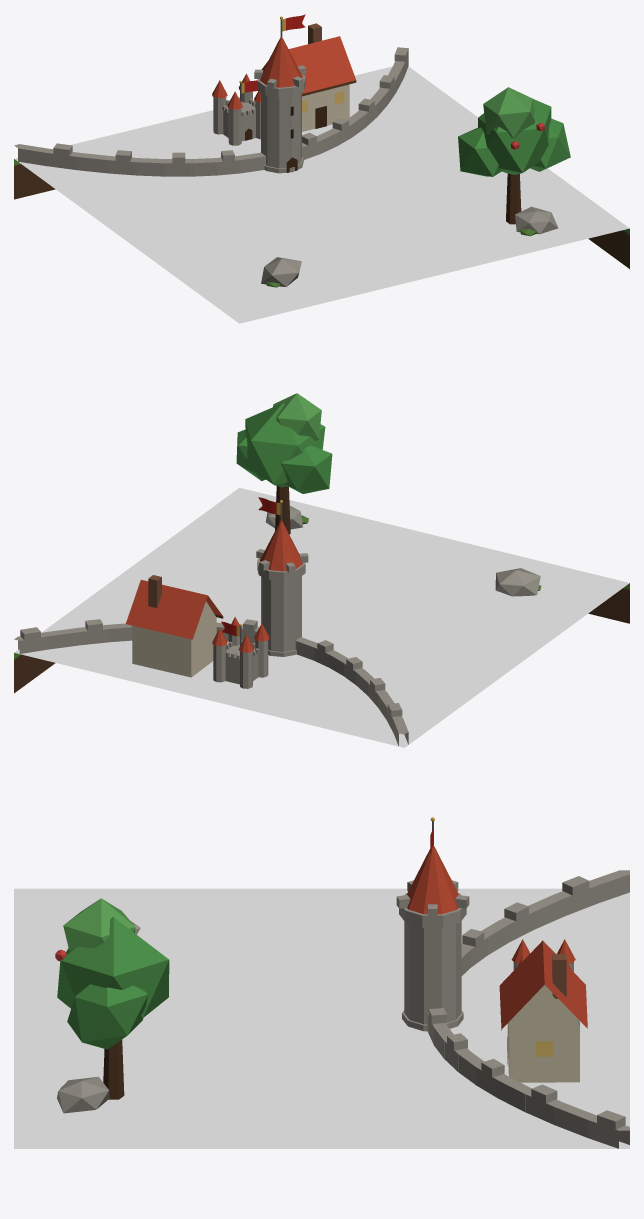
Rendered from capRL.glb.
3 views of the same model, one above another, from view 1: azimuth 30°, elevation 25°; view 2: azimuth 150°, elevation 25°; view 3: azimuth 270°, elevation 25° (orthographic). The views are drawn at different scales.
Visible parts, largest first — view 1: capRL; view 2: capRL; view 3: capRL.
Part boxes in pixels (x1,y1,x2,y2): capRL: [14, 14, 629, 323]; capRL: [14, 393, 629, 747]; capRL: [14, 817, 629, 1148].
Size of the model in its own units: 2 by 0.9222 by 2.
